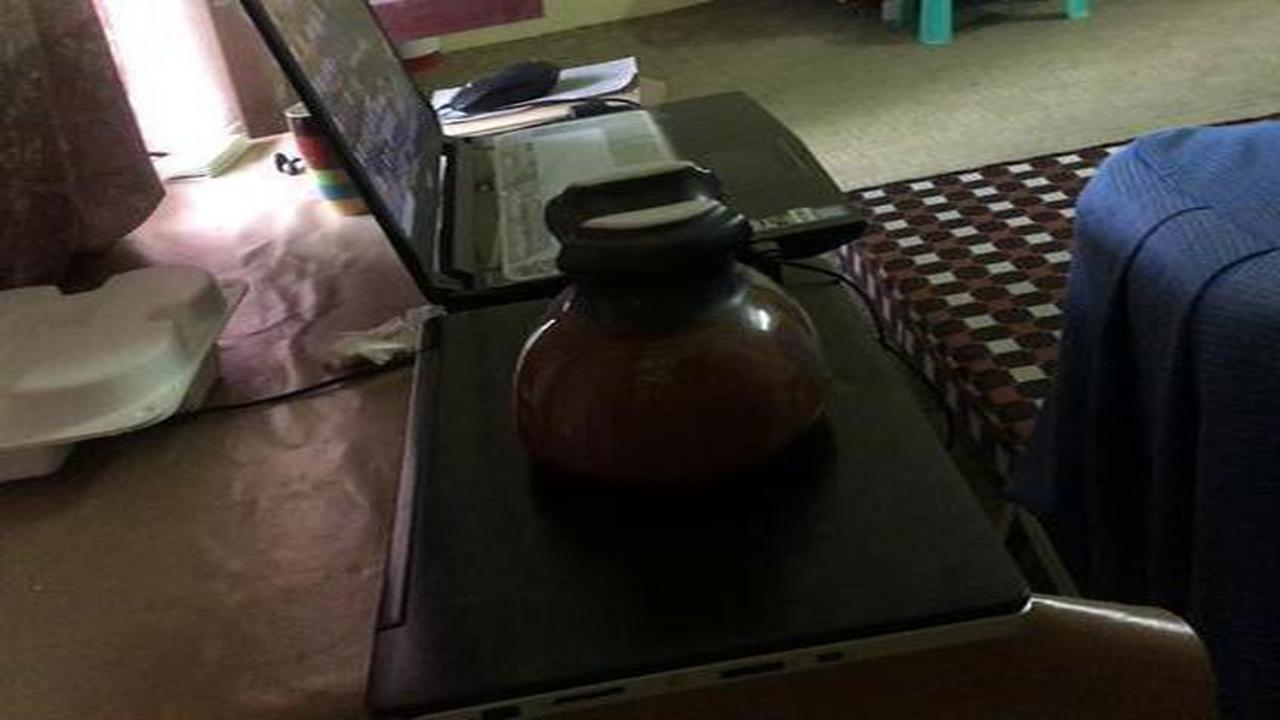insulator_pin: (495, 150, 859, 523)
